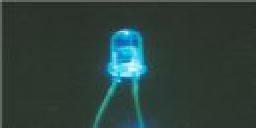LED: (94, 27, 151, 128)
